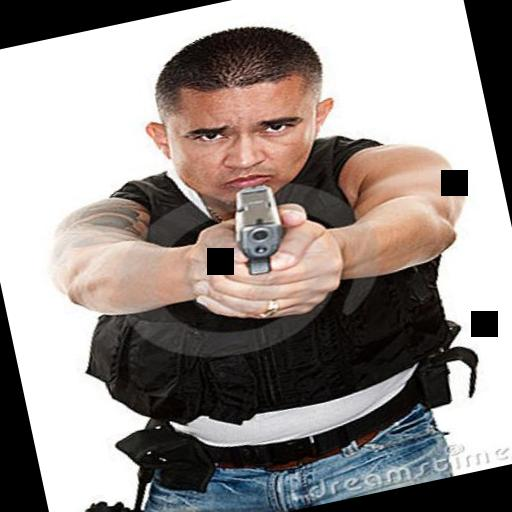Handgun: (222, 178, 294, 280)
